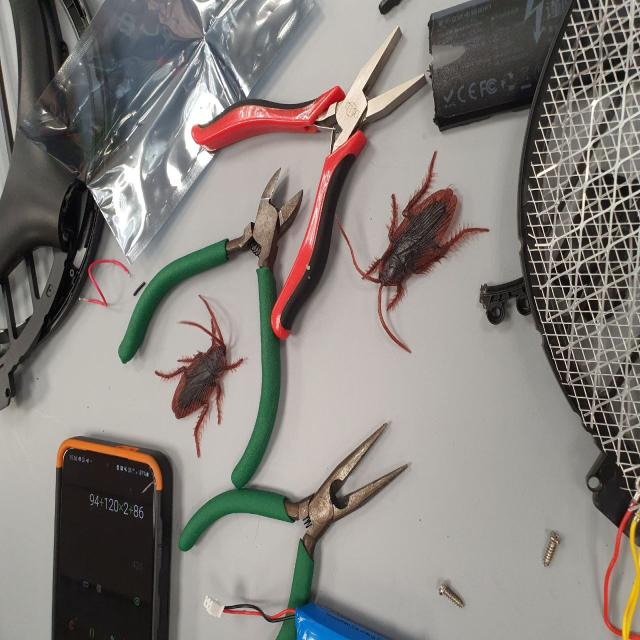Cockroach: (335, 153, 491, 339), (149, 293, 247, 466)
